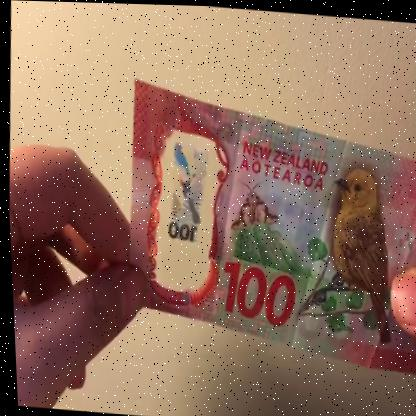100B: (158, 135, 213, 269)
